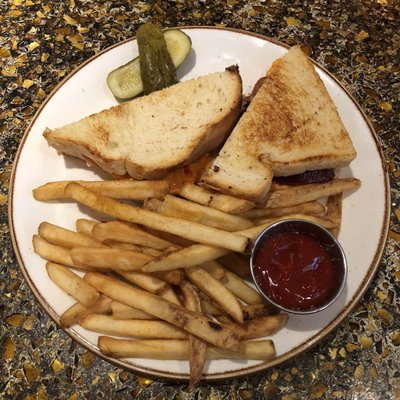soup: (196, 46, 357, 205), (42, 66, 244, 183)
sushi: (249, 218, 350, 322)
